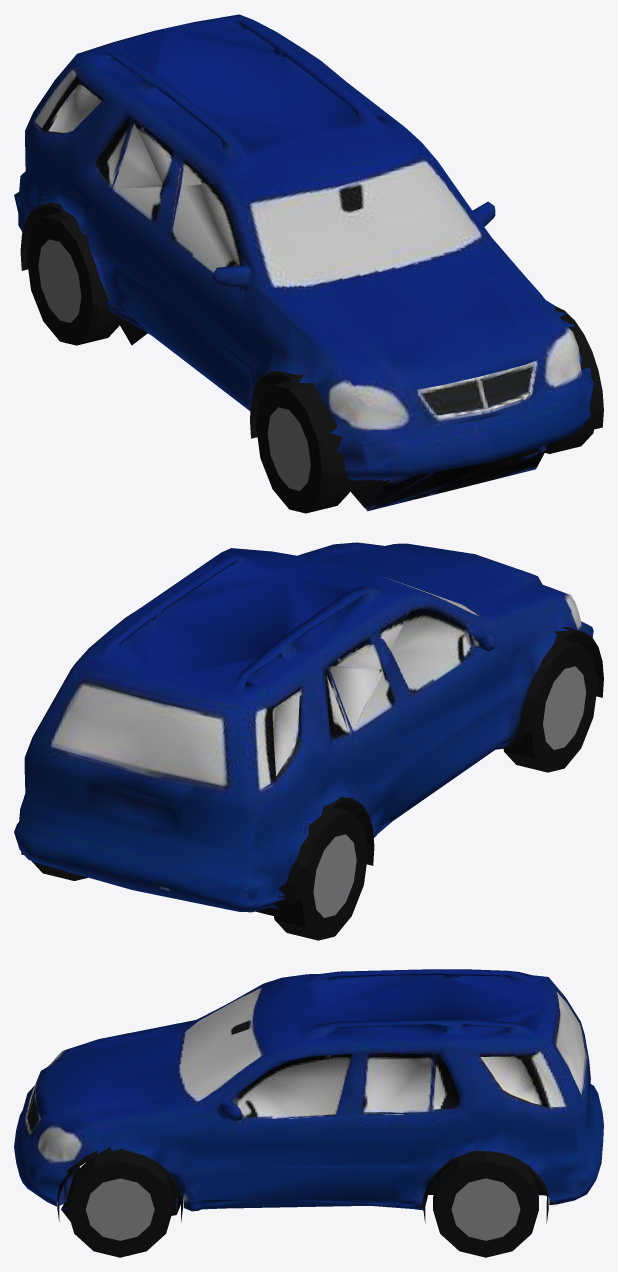
Rendered from suv.glb.
3 renders of one model, top to bottom at view 1: azimuth 30°, elevation 25°; view 2: azimuth 150°, elevation 25°; view 3: azimuth 270°, elevation 25°, orthographic. The views are drawn at different scales.
Visible parts, largest first — view 1: suv, wheel_rr, wheel_fr; view 2: suv, wheel_fr, wheel_rr; view 3: suv, wheel_fl, wheel_rl.
Part boxes in pixels (x1=…): suv: x1=14, y1=14, x2=603, y2=511; wheel_rr: x1=26, y1=212, x2=120, y2=345; wheel_fr: x1=256, y1=380, x2=350, y2=513; suv: x1=14, y1=542, x2=603, y2=921; wheel_fr: x1=503, y1=639, x2=597, y2=772; wheel_rr: x1=274, y1=807, x2=368, y2=940; suv: x1=14, y1=969, x2=603, y2=1223; wheel_fl: x1=67, y1=1152, x2=173, y2=1257; wheel_rl: x1=433, y1=1152, x2=538, y2=1257.
Size of the model in its own units: 2.08 by 1.87 by 4.7.
1 material, 1 textured.
